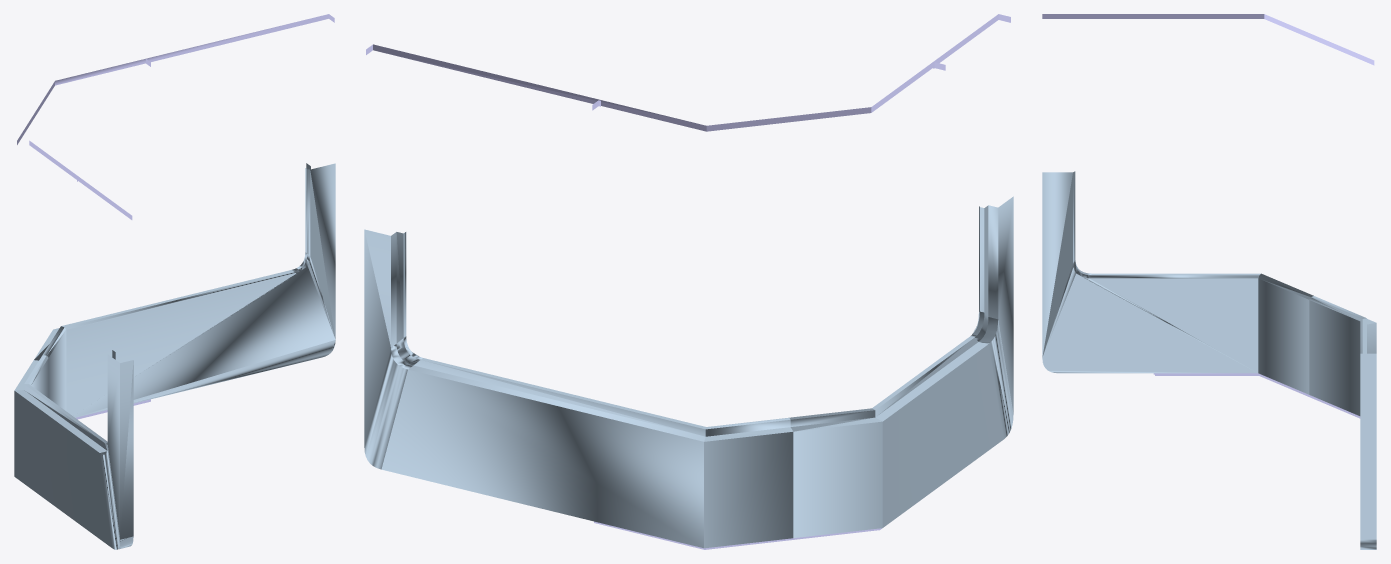
Rendered from room_b_sm_partition_corner90in_window_03x04x04_b.glb.
3 renders of one model, left to right at view 1: azimuth 30°, elevation 25°; view 2: azimuth 150°, elevation 25°; view 3: azimuth 270°, elevation 25°, orthographic. The views are drawn at different scales.
Bounding box in the file's own units: 4 × 3.53 × 3.
